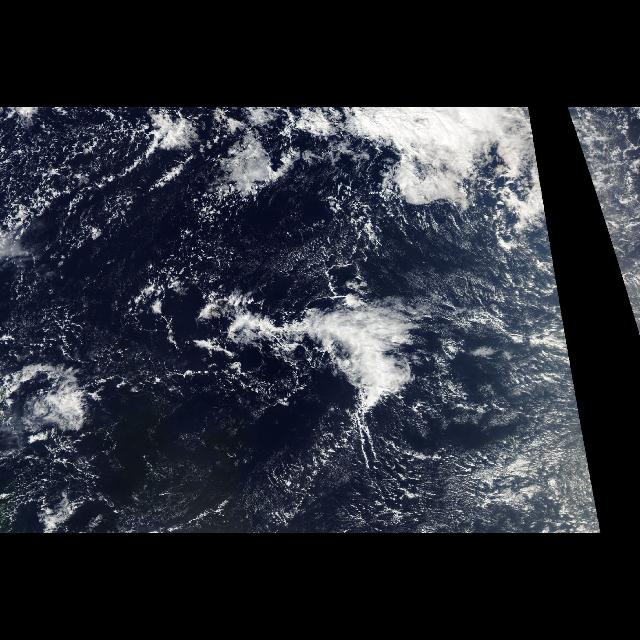Gravel: (1, 110, 395, 532)
Sugar: (400, 260, 602, 532)
